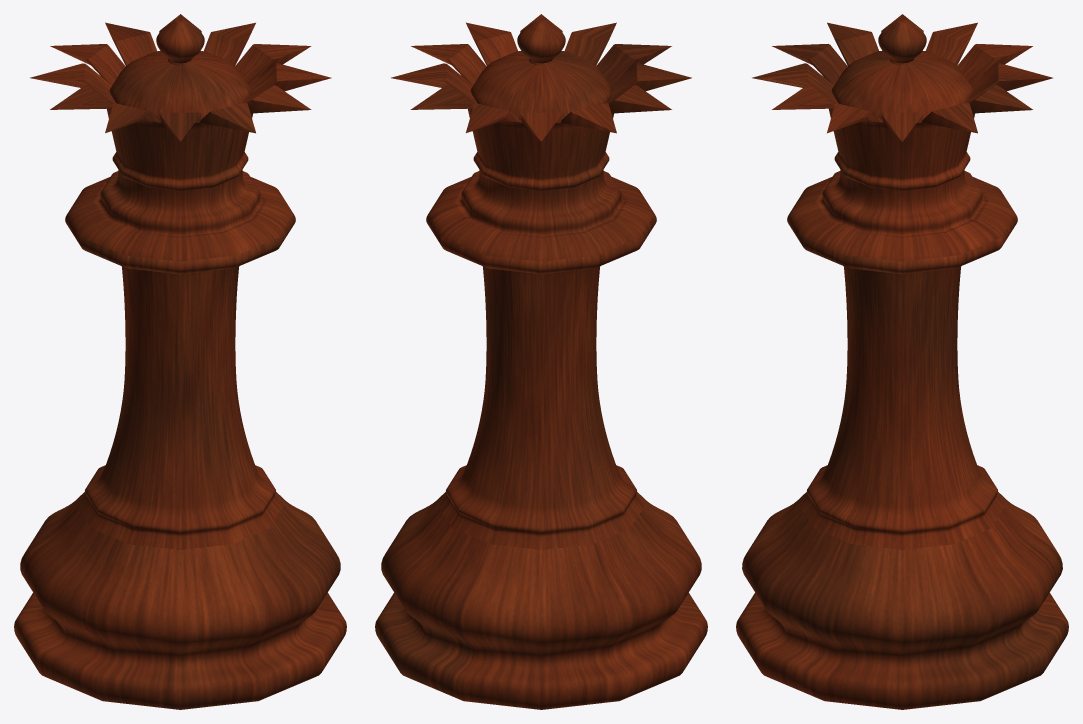
The model's file is queen.gltf.
The picture shows the model from 3 angles, left to right: view 1: azimuth 30°, elevation 25°; view 2: azimuth 150°, elevation 25°; view 3: azimuth 270°, elevation 25°; orthographic projection.
Parts seen in each view (by area): view 1: mesh01; view 2: mesh01; view 3: mesh01.
Part boxes in pixels (x1=…): mesh01: x1=14, y1=14, x2=346, y2=709; mesh01: x1=375, y1=14, x2=707, y2=709; mesh01: x1=736, y1=14, x2=1068, y2=709.
Bounding box in the file's own units: 14.93 × 30.95 × 14.93.
1 material, 1 textured.
